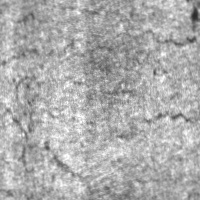crazing: (3, 0, 111, 198), (5, 0, 200, 71), (111, 30, 200, 133)
